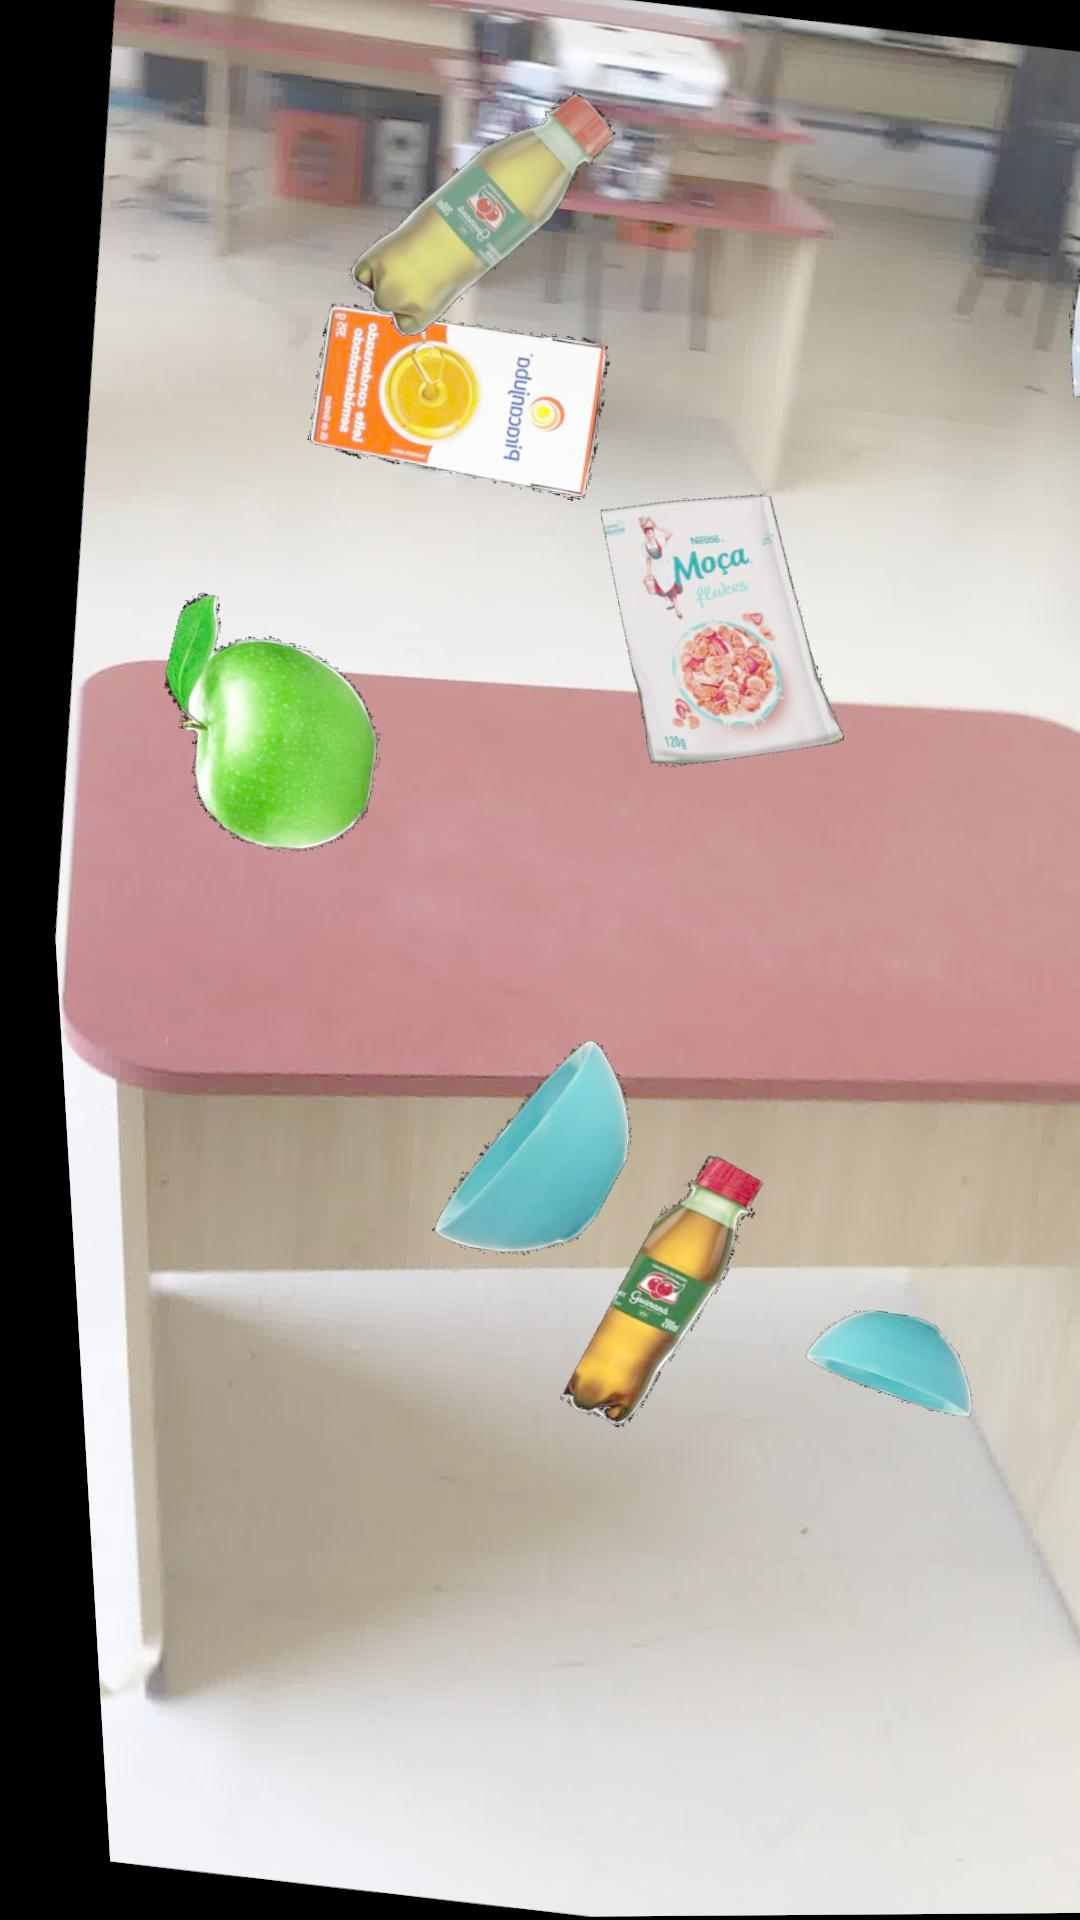bowl: (414, 1038, 613, 1251), (786, 1308, 951, 1415)
corn flakes: (591, 492, 832, 764)
green apple: (152, 589, 367, 848)
guarana: (344, 88, 612, 334), (539, 1154, 745, 1425)
knife: (1063, 240, 1080, 396)
